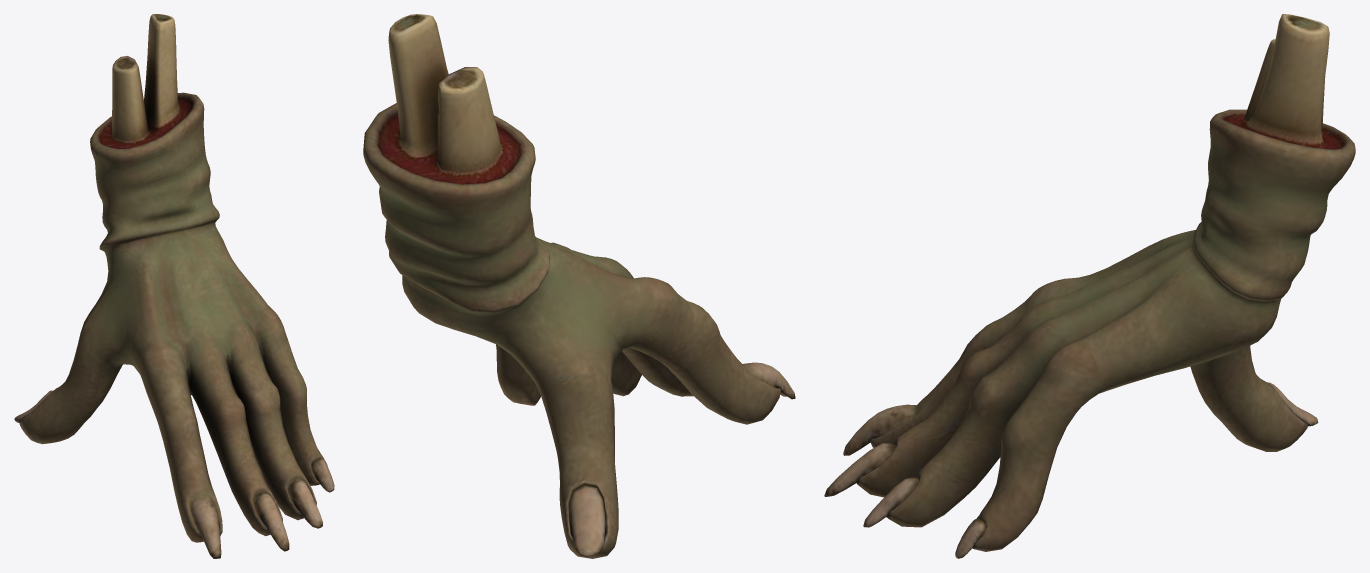
The model's file is MZ4250 - Crawling Claw.glb.
3 views of the same model, side by side, from view 1: azimuth 30°, elevation 25°; view 2: azimuth 150°, elevation 25°; view 3: azimuth 270°, elevation 25° (orthographic). The views are drawn at different scales.
Parts seen in each view (by area): view 1: Body.001; view 2: Body.001; view 3: Body.001.
Boxes of the visible parts, box(x1,y1,x2,y2) form: Body.001: box(14, 14, 334, 558); Body.001: box(363, 14, 795, 558); Body.001: box(824, 14, 1355, 558).
Size of the model in its own units: 0.1068 by 0.2094 by 0.1961.
Materials: 1 (1 with a texture image).
